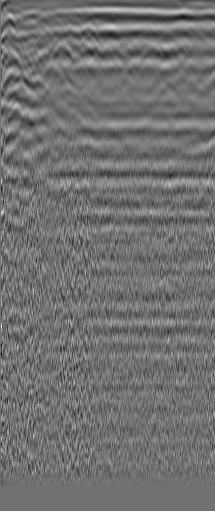오수: (13, 13, 57, 44)
우수: (177, 23, 209, 48)
